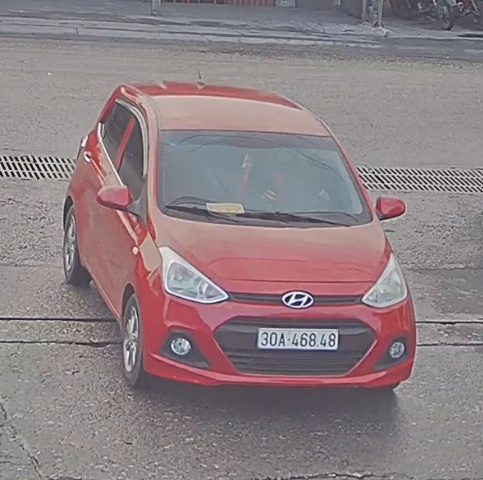vehicle plate: (257, 322, 341, 355)
